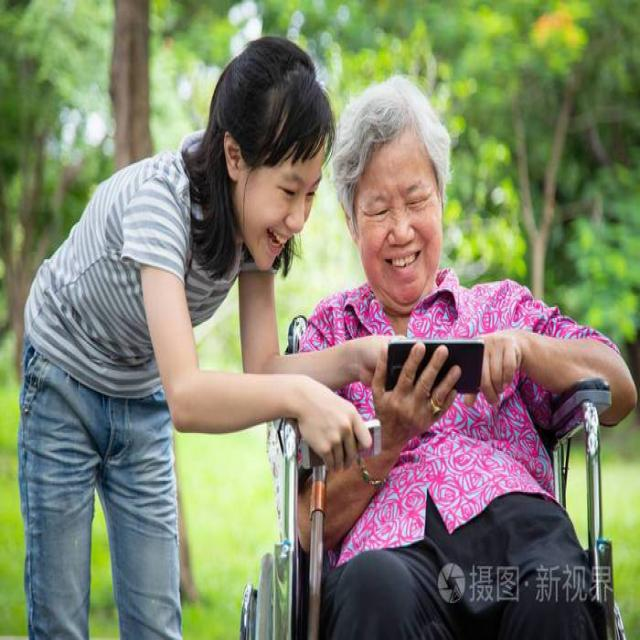wheelchairs: (231, 283, 626, 640)
